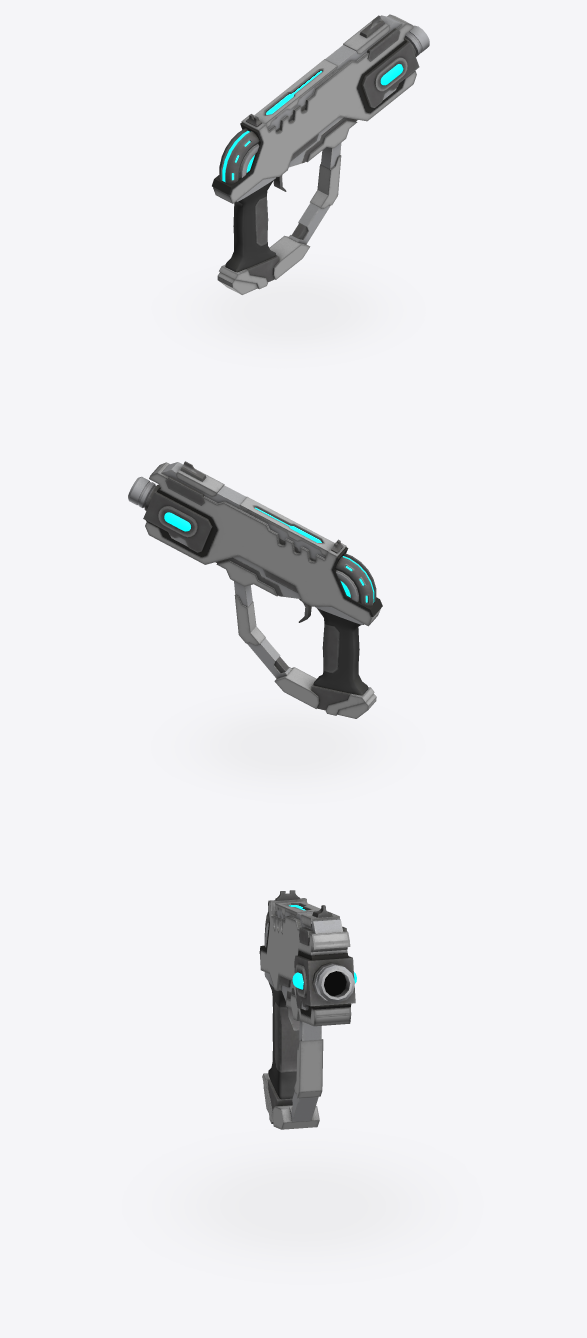
The picture shows the model from 3 angles, top to bottom: view 1: azimuth 30°, elevation 25°; view 2: azimuth 150°, elevation 25°; view 3: azimuth 270°, elevation 25°; orthographic projection. The views are drawn at different scales.
Parts seen in each view (by area): view 1: dily1_low, Plane; view 2: dily1_low, Plane; view 3: Plane, dily1_low.
Part boxes in pixels (x1,y1,x2,y2): dily1_low: [212, 14, 429, 294]; Plane: [196, 271, 383, 350]; dily1_low: [128, 461, 382, 718]; Plane: [194, 707, 381, 786]; Plane: [177, 1152, 432, 1259]; dily1_low: [259, 890, 356, 1129].
Size of the model in its own units: 3548 by 2553 by 3548.
Materials: 2 (2 with a texture image).
